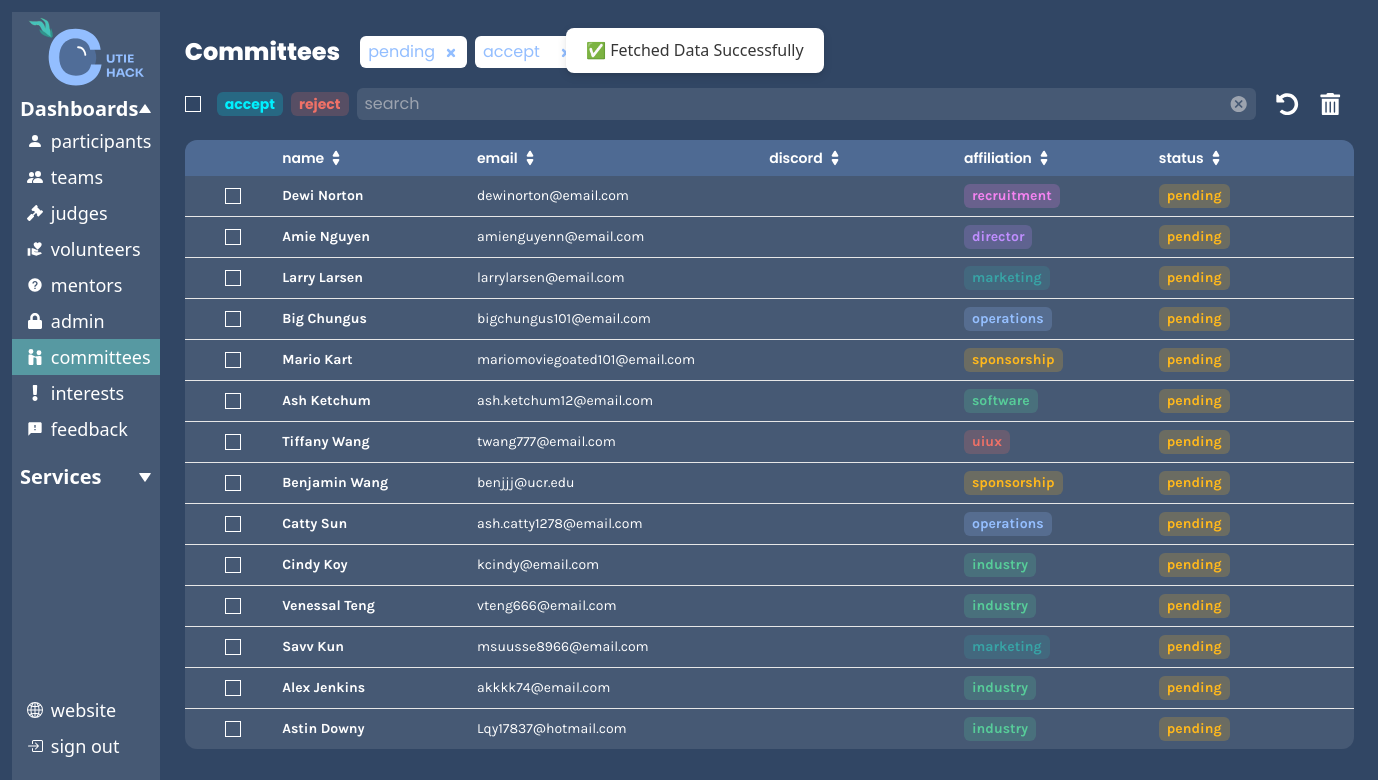
Scenario: Committee Search › No Search Results
This screenshot has width=1378, height=780.
Step 1. Type "Meow" into the field with test id "input-input" → (793, 104), box left=357, top=88, right=1229, bottom=120
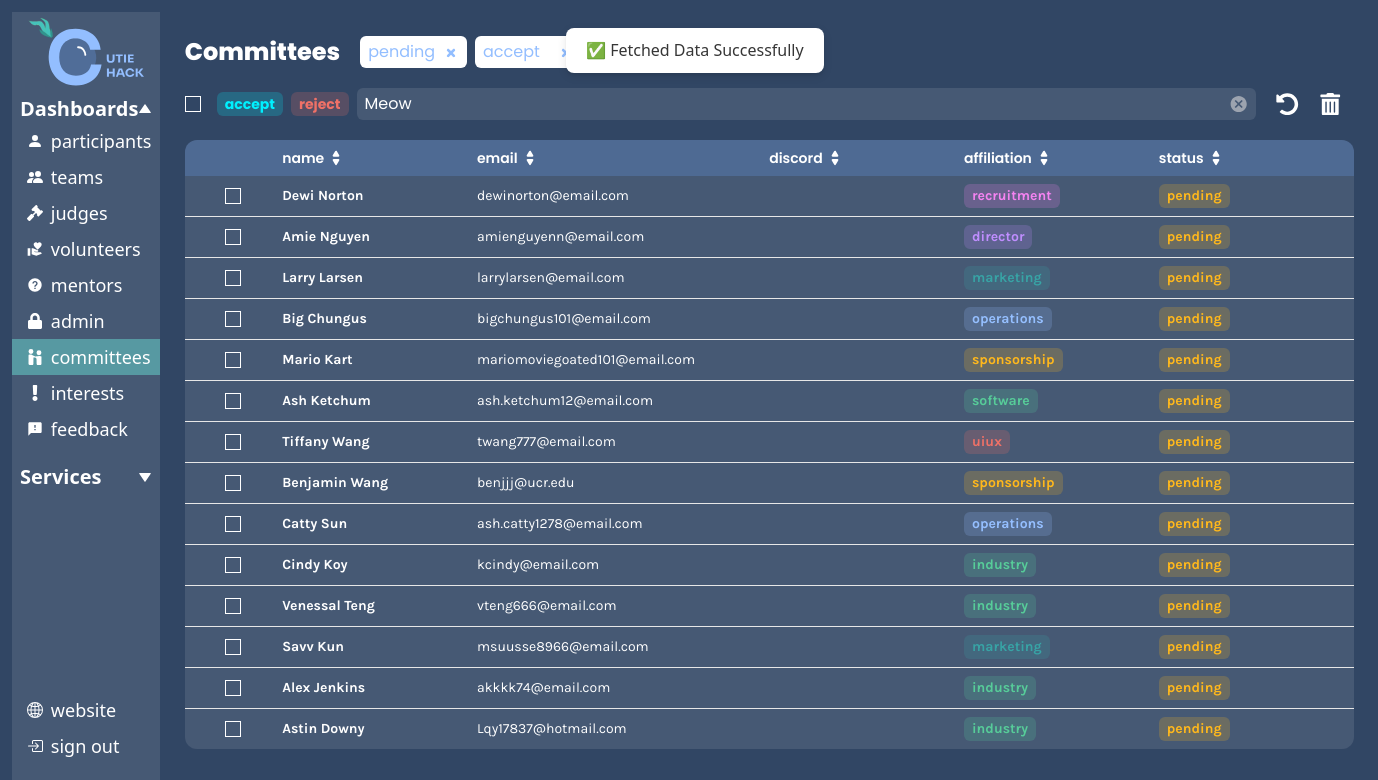
Step 2. Submit the form, box left=357, top=84, right=1257, bottom=124
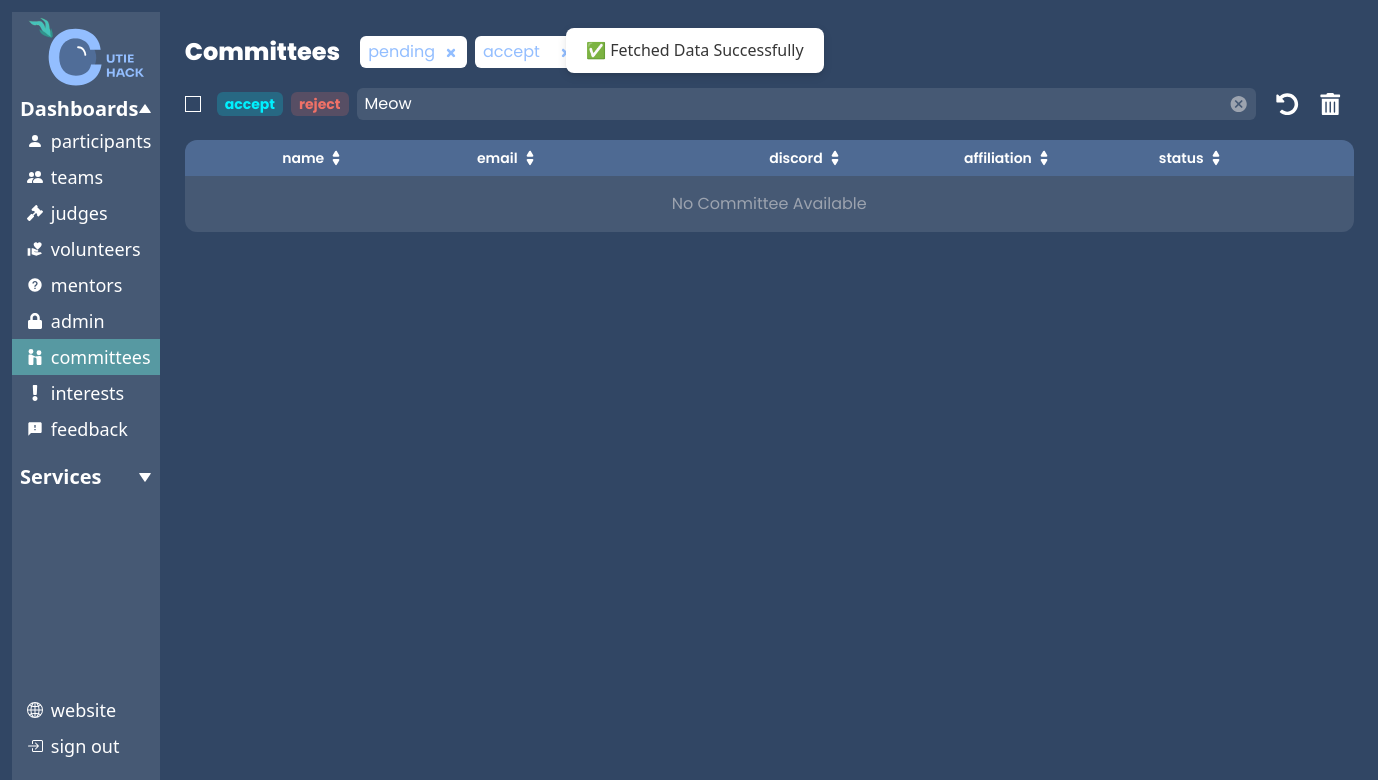
Check: the text "No Committee Available" is shown, box left=672, top=192, right=867, bottom=215
